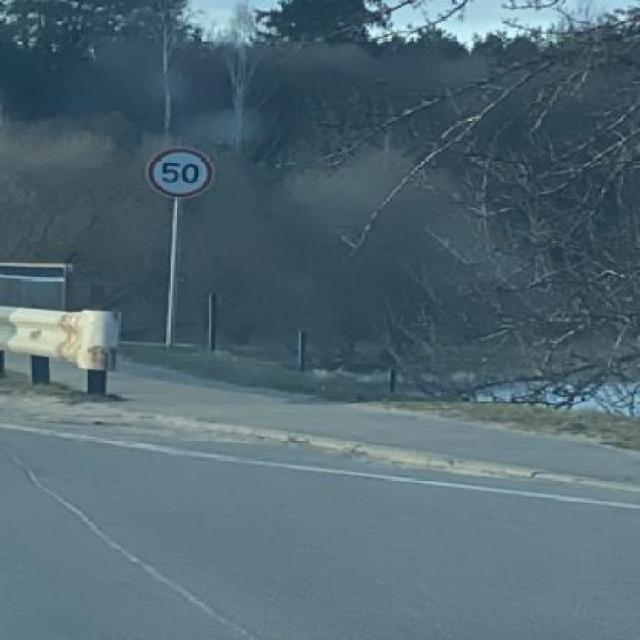forb_speed_over_50: (148, 148, 212, 199)
